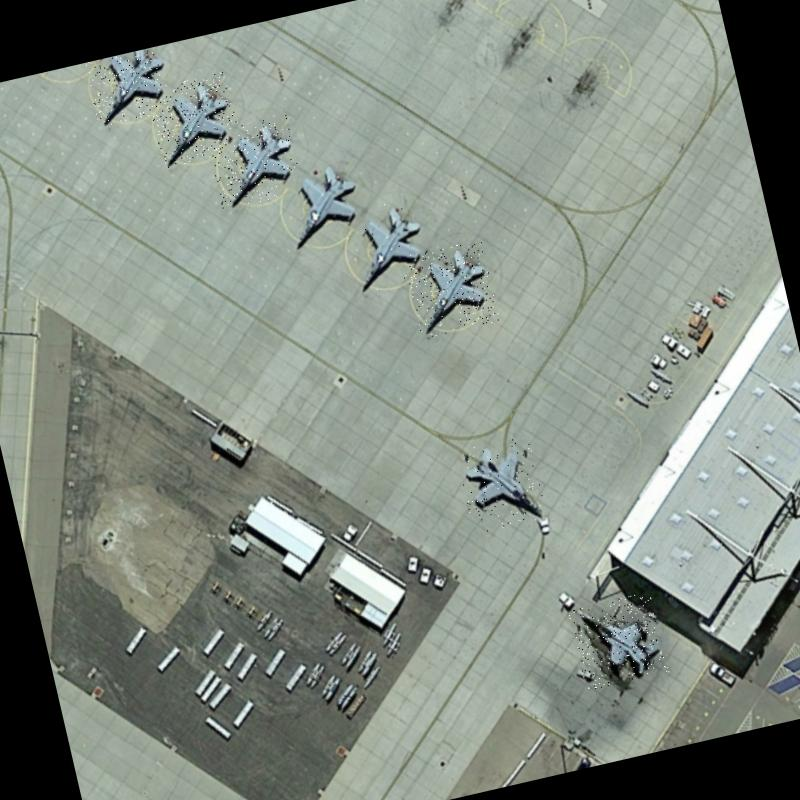A16: (400, 238, 500, 339), (568, 590, 668, 690), (340, 196, 436, 297), (205, 114, 304, 211), (146, 71, 244, 168), (454, 432, 547, 534), (276, 156, 368, 249), (84, 45, 172, 127)
